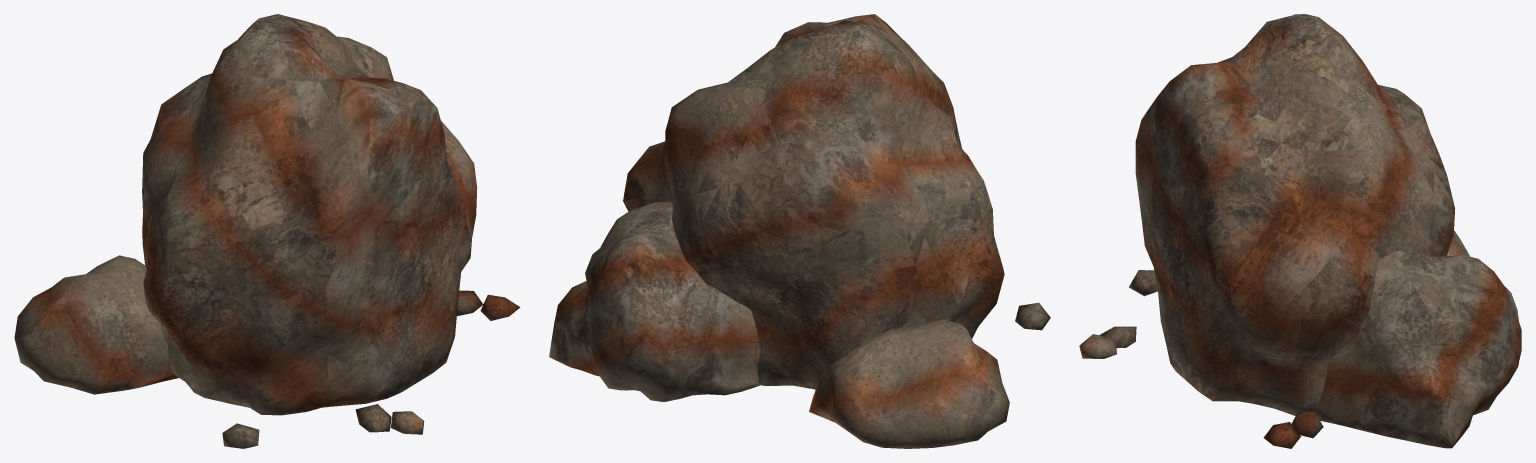
Rendered from b_n_iron.glb.
The picture shows the model from 3 angles, left to right: view 1: azimuth 30°, elevation 25°; view 2: azimuth 150°, elevation 25°; view 3: azimuth 270°, elevation 25°; orthographic projection. The views are drawn at different scales.
Visible parts, largest first — view 1: b_n_iron; view 2: b_n_iron; view 3: b_n_iron.
Part boxes in pixels (box(x1,y1,x2,y2)): b_n_iron: box(14, 14, 520, 448); b_n_iron: box(549, 14, 1050, 448); b_n_iron: box(1079, 14, 1521, 448).
Size of the model in its own units: 1.62 by 1.19 by 1.48.
1 material, 1 textured.
